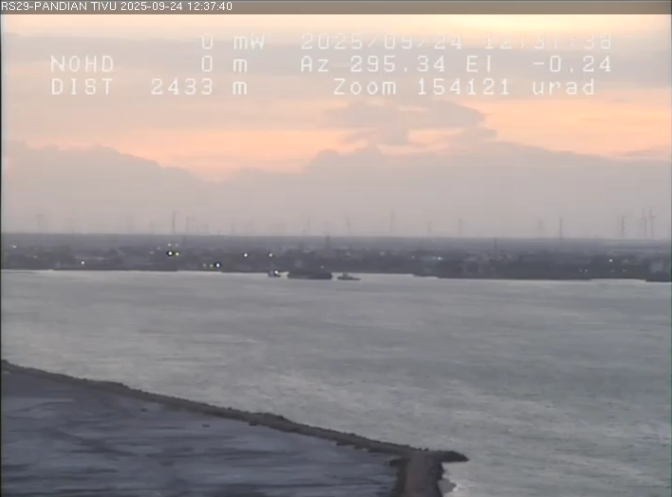BARGE: (283, 261, 334, 287)
TOWING: (250, 242, 396, 320)
TUGS: (335, 263, 365, 286), (263, 264, 280, 286)
